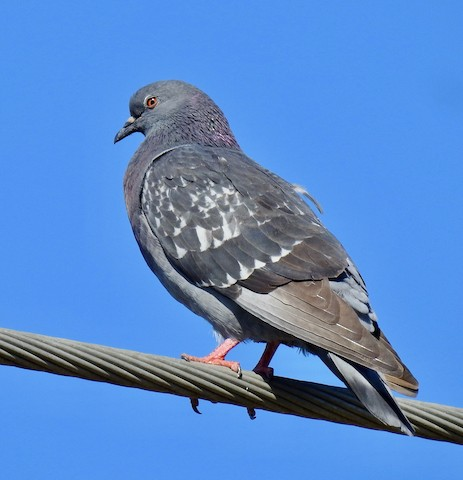pigeon: (113, 78, 426, 441)
